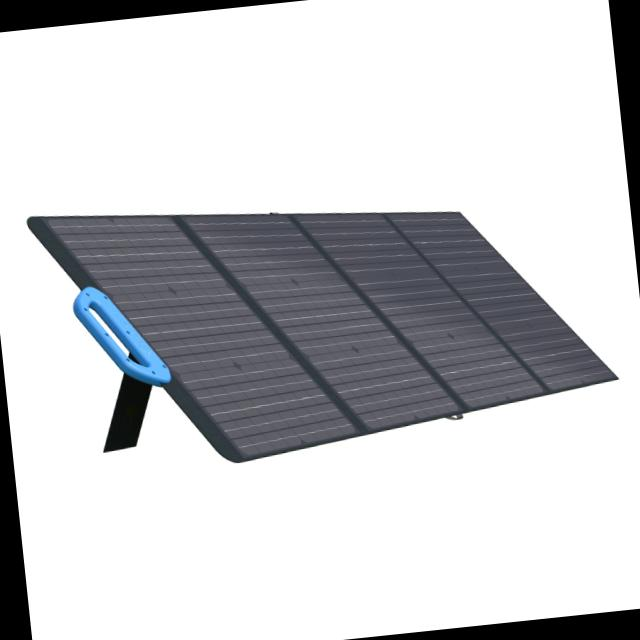no faulty: (48, 211, 623, 443)
